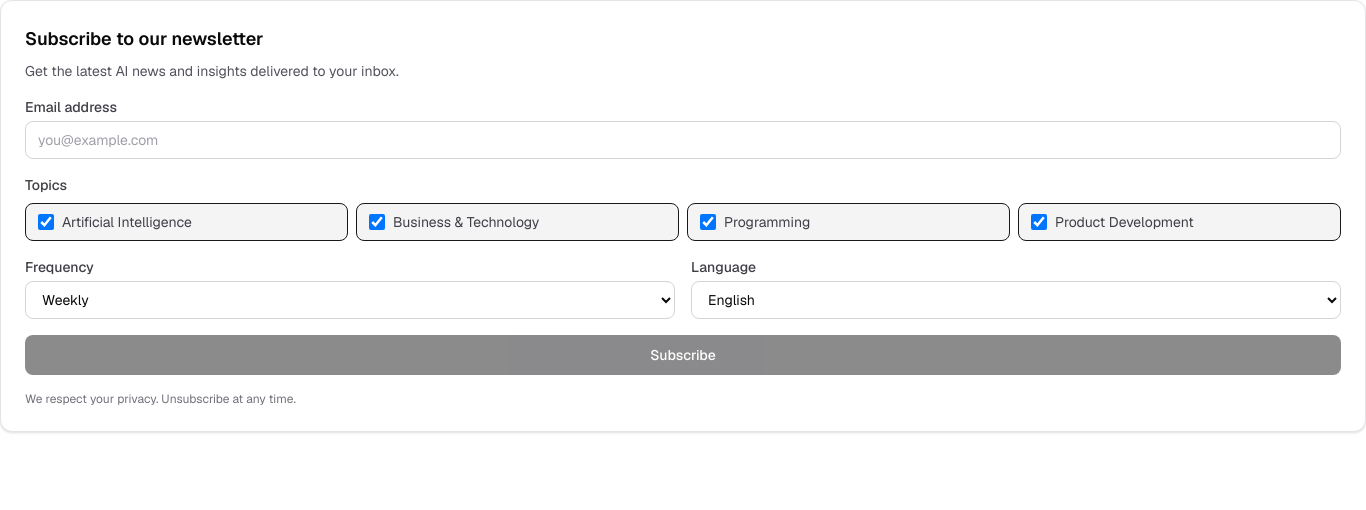
SubscribeForm › shows error on invalid email
Type "user@example.com" into the field labelled "Email address" at (683, 140), box [25,121,1341,159]
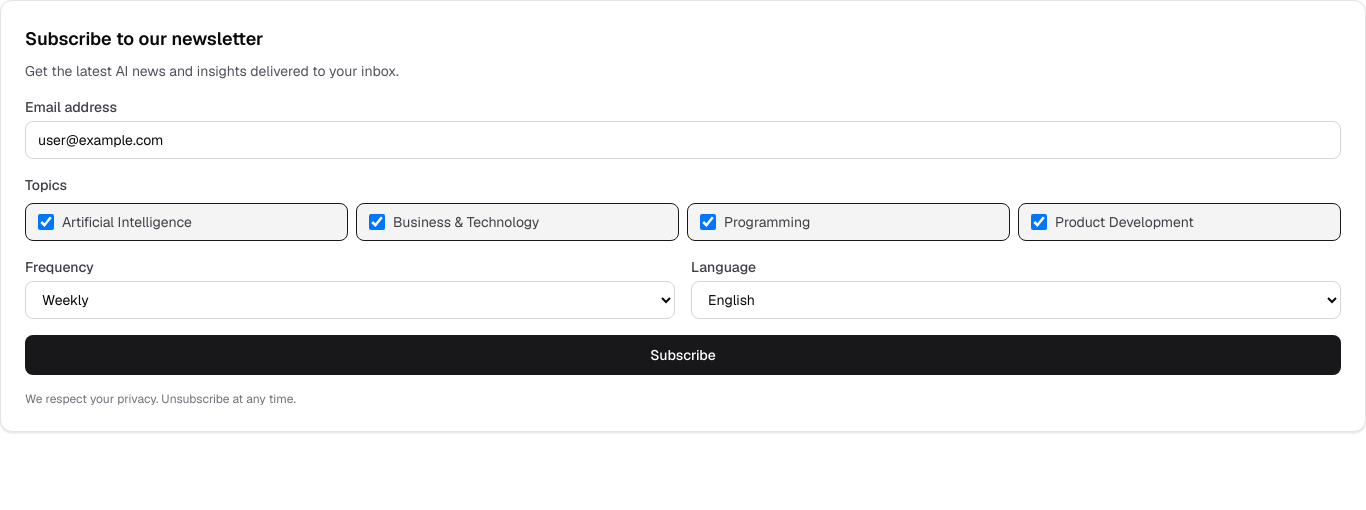
Click the button "Subscribe" at (683, 355), box [25,335,1341,375]
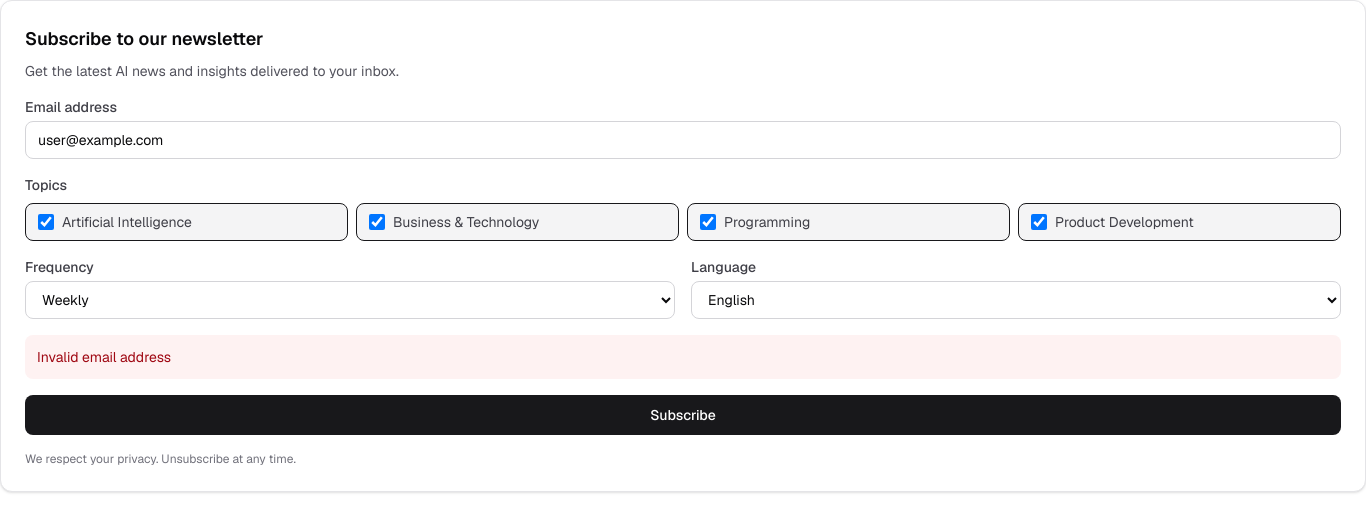
Check: the text "Invalid email address" is shown, box [25,335,1341,379]
